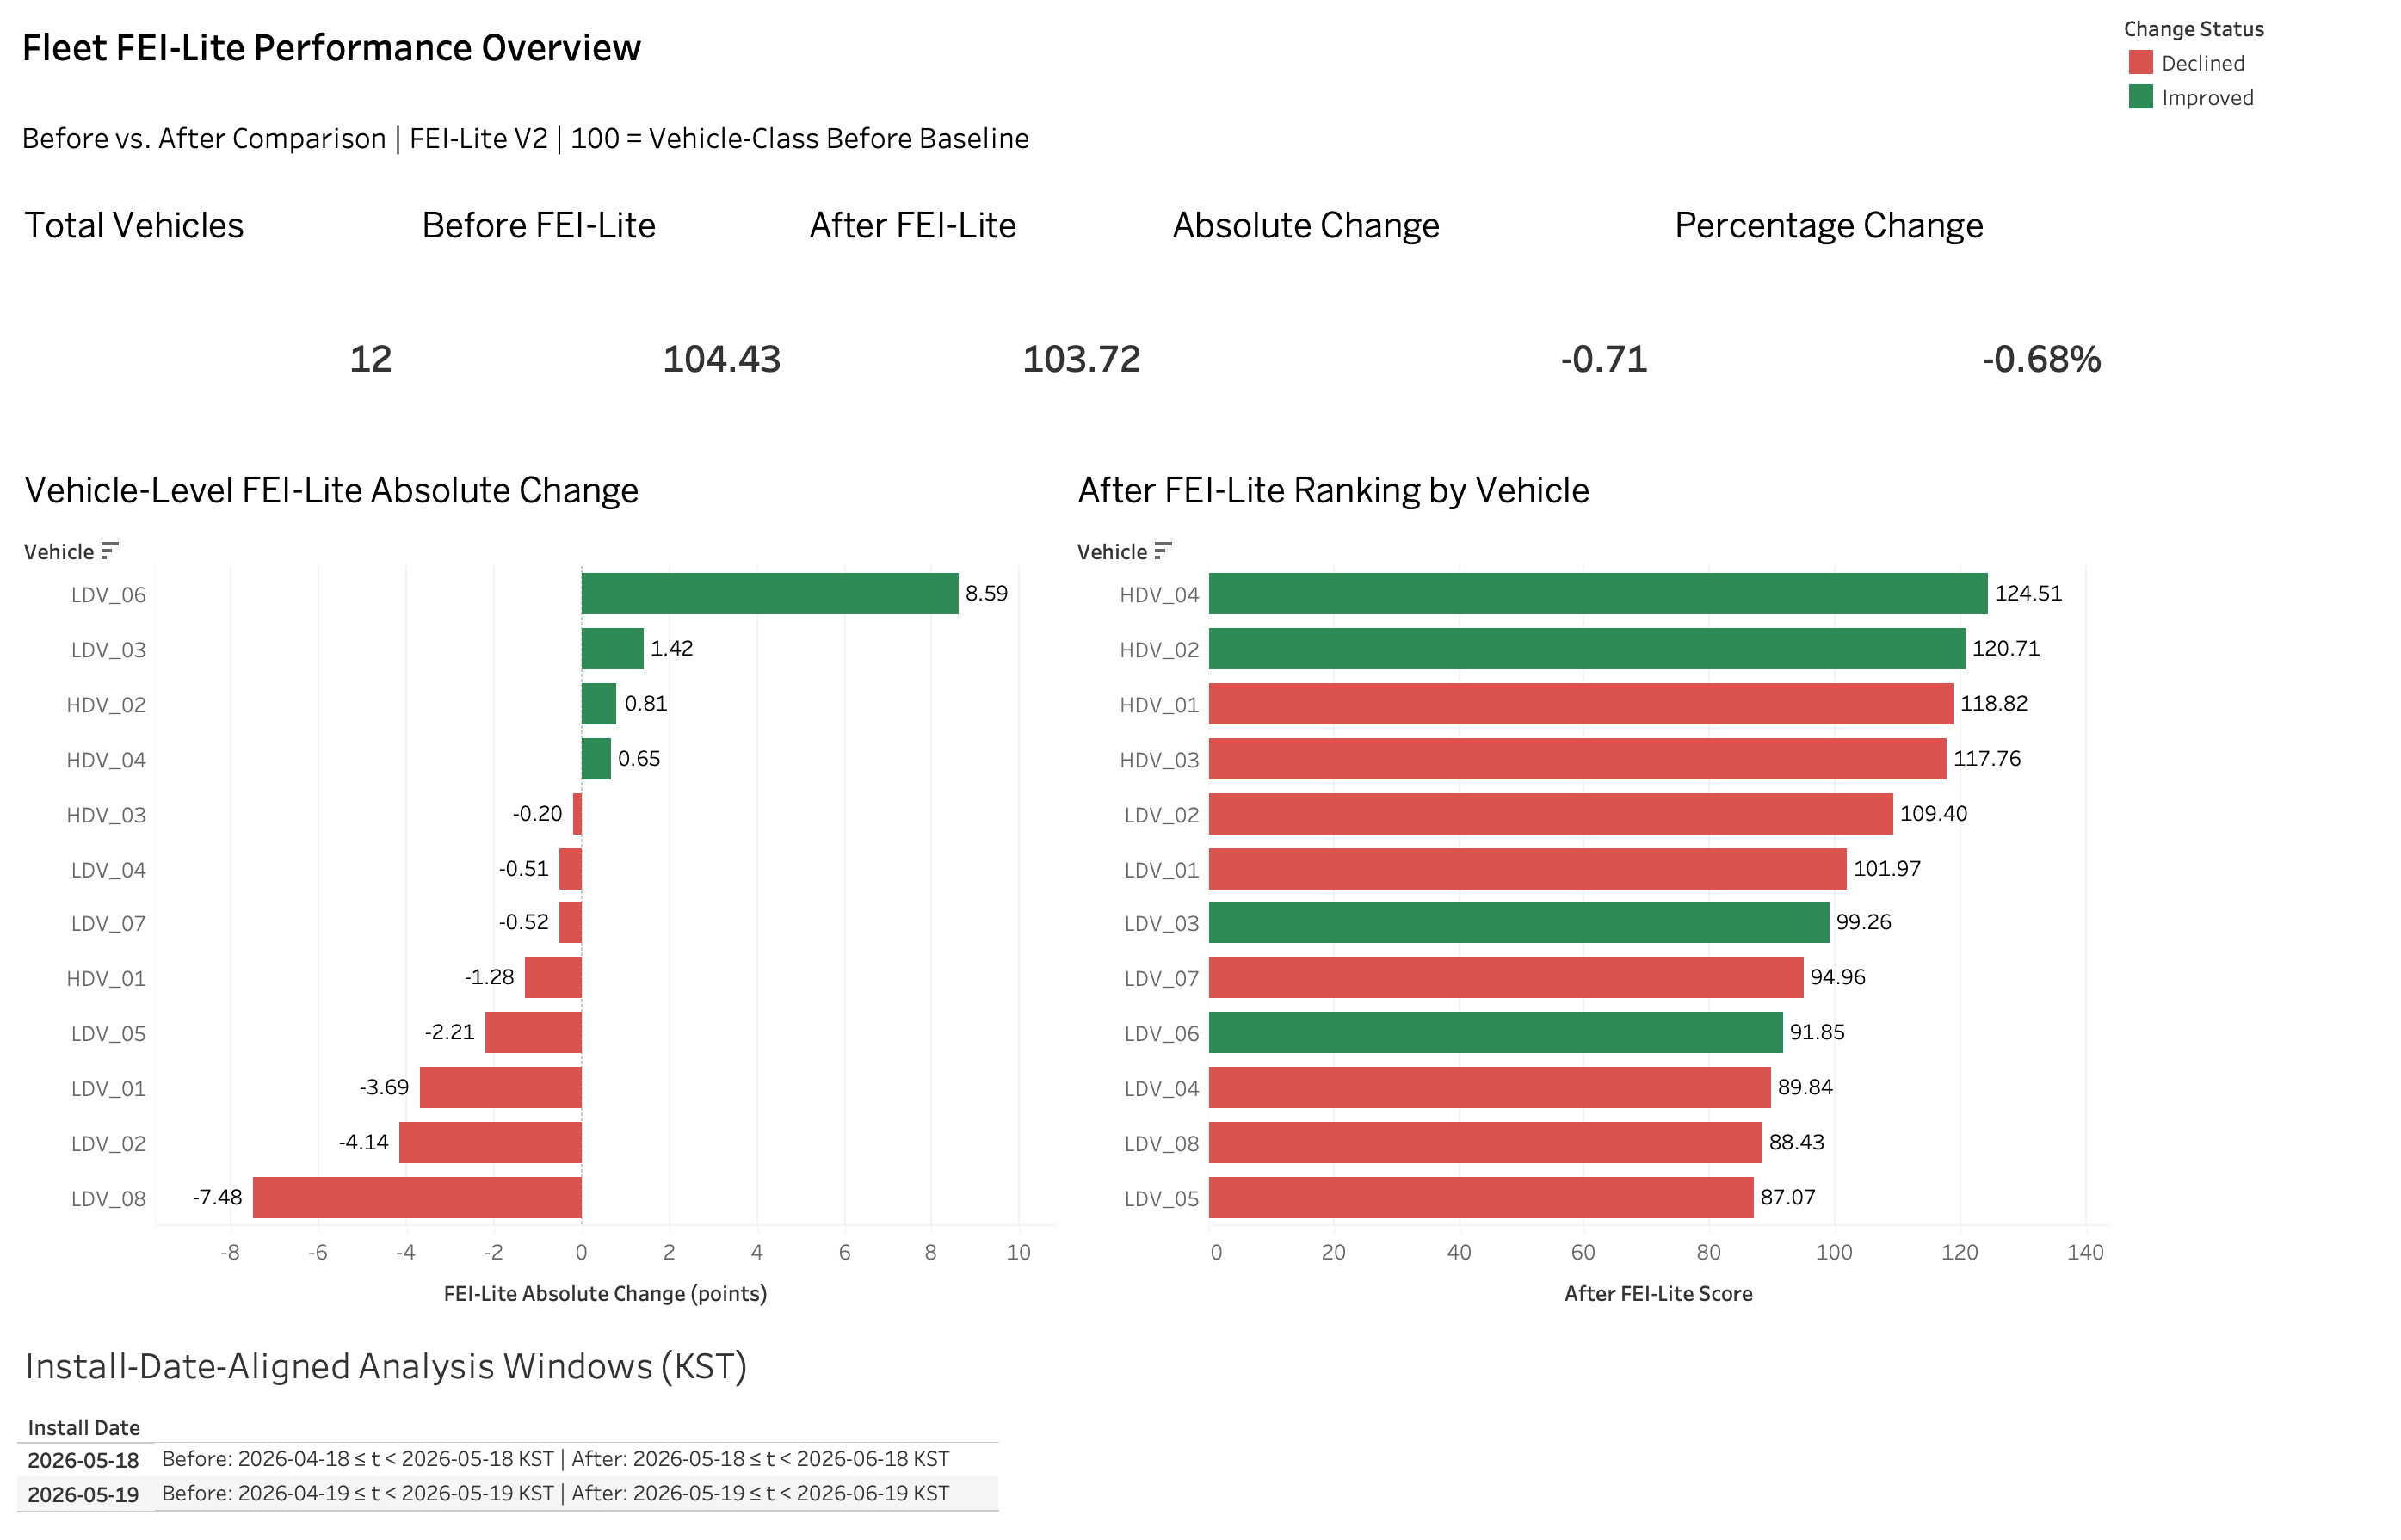

The dashboard page shown, as its layout file describes it:
{"tool":"tableau","page":{"name":"Dashboard - Executive Overview","canvas":[1000,1000],"units":"permille","ordinal":1},"visuals":[{"type":"text","box":[5.7,8.9,988.6,90]},{"type":"worksheet","title":"01 KPI - Total Vehicles","mark":"Automatic","box":[5.7,98.9,247.1,130]},{"type":"worksheet","title":"02 KPI - Average Before FEI - Lite","mark":"Automatic","box":[252.8,98.9,247.1,130]},{"type":"worksheet","title":"03 KPI - Average After FEI - Lite","mark":"Automatic","box":[500,98.9,247.1,130]},{"type":"worksheet","title":"04 KPI - Average FEI Improvement","mark":"Automatic","box":[747.1,98.9,247.2,130]},{"type":"worksheet","title":"05 Vehicle FEI Ranking","mark":"Bar","rows":["vehicle"],"cols":["after_fei_lite"],"box":[5.7,228.9,988.6,384.4]}]}

Visuals, with their boxes on the dashboard's canvas, which has no fixed pixel size, in thousandths of its width and height (x1, y1, x2, y2). These are canvas units, not pixel positions in the 2401x1540 screenshot, which may show the page scaled, cropped or inside an application window:
text: 6, 9, 994, 99
"01 KPI - Total Vehicles" worksheet: 6, 99, 253, 229
"02 KPI - Average Before FEI - Lite" worksheet: 253, 99, 500, 229
"03 KPI - Average After FEI - Lite" worksheet: 500, 99, 747, 229
"04 KPI - Average FEI Improvement" worksheet: 747, 99, 994, 229
"05 Vehicle FEI Ranking" worksheet (Bar marks): 6, 229, 994, 613
